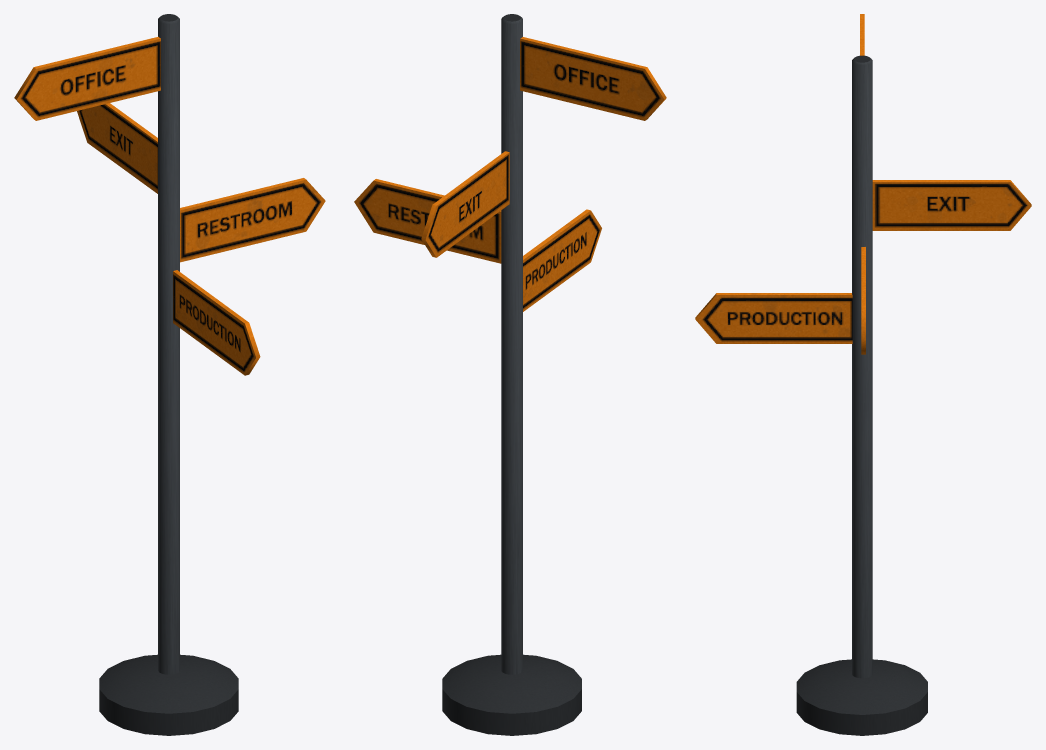
The model's file is aws_robomaker_warehouse_Sign_01_visual.DAE.
3 views of the same model, side by side, from view 1: azimuth 30°, elevation 25°; view 2: azimuth 150°, elevation 25°; view 3: azimuth 270°, elevation 25° (orthographic). The views are drawn at different scales.
Parts seen in each view (by area): view 1: aws_robomaker_warehouse_Sign_01_visual; view 2: aws_robomaker_warehouse_Sign_01_visual; view 3: aws_robomaker_warehouse_Sign_01_visual.
Part boxes in pixels (box(x1,y1,x2,y2)): aws_robomaker_warehouse_Sign_01_visual: box(14, 14, 325, 735); aws_robomaker_warehouse_Sign_01_visual: box(354, 14, 666, 735); aws_robomaker_warehouse_Sign_01_visual: box(695, 14, 1031, 735).
Size of the model in its own units: 149 by 149 by 317.
Materials: 1 (1 with a texture image).
